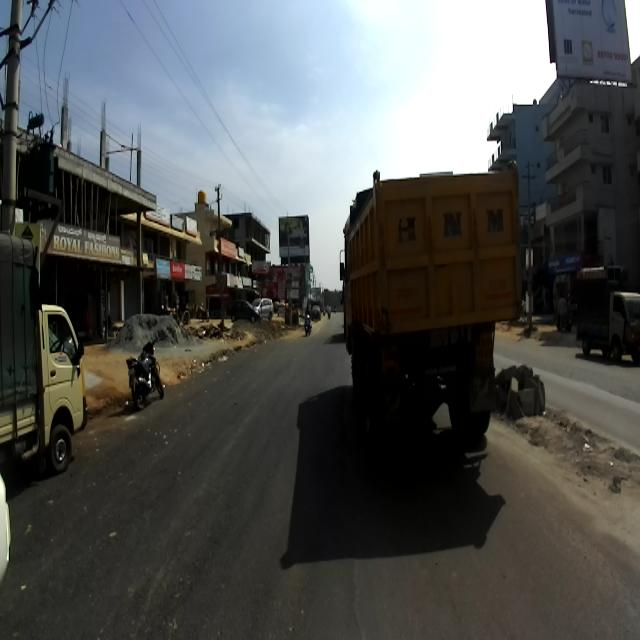motorcycle ahead at: (122, 338, 170, 415)
truck ahead at: (338, 166, 524, 459)
